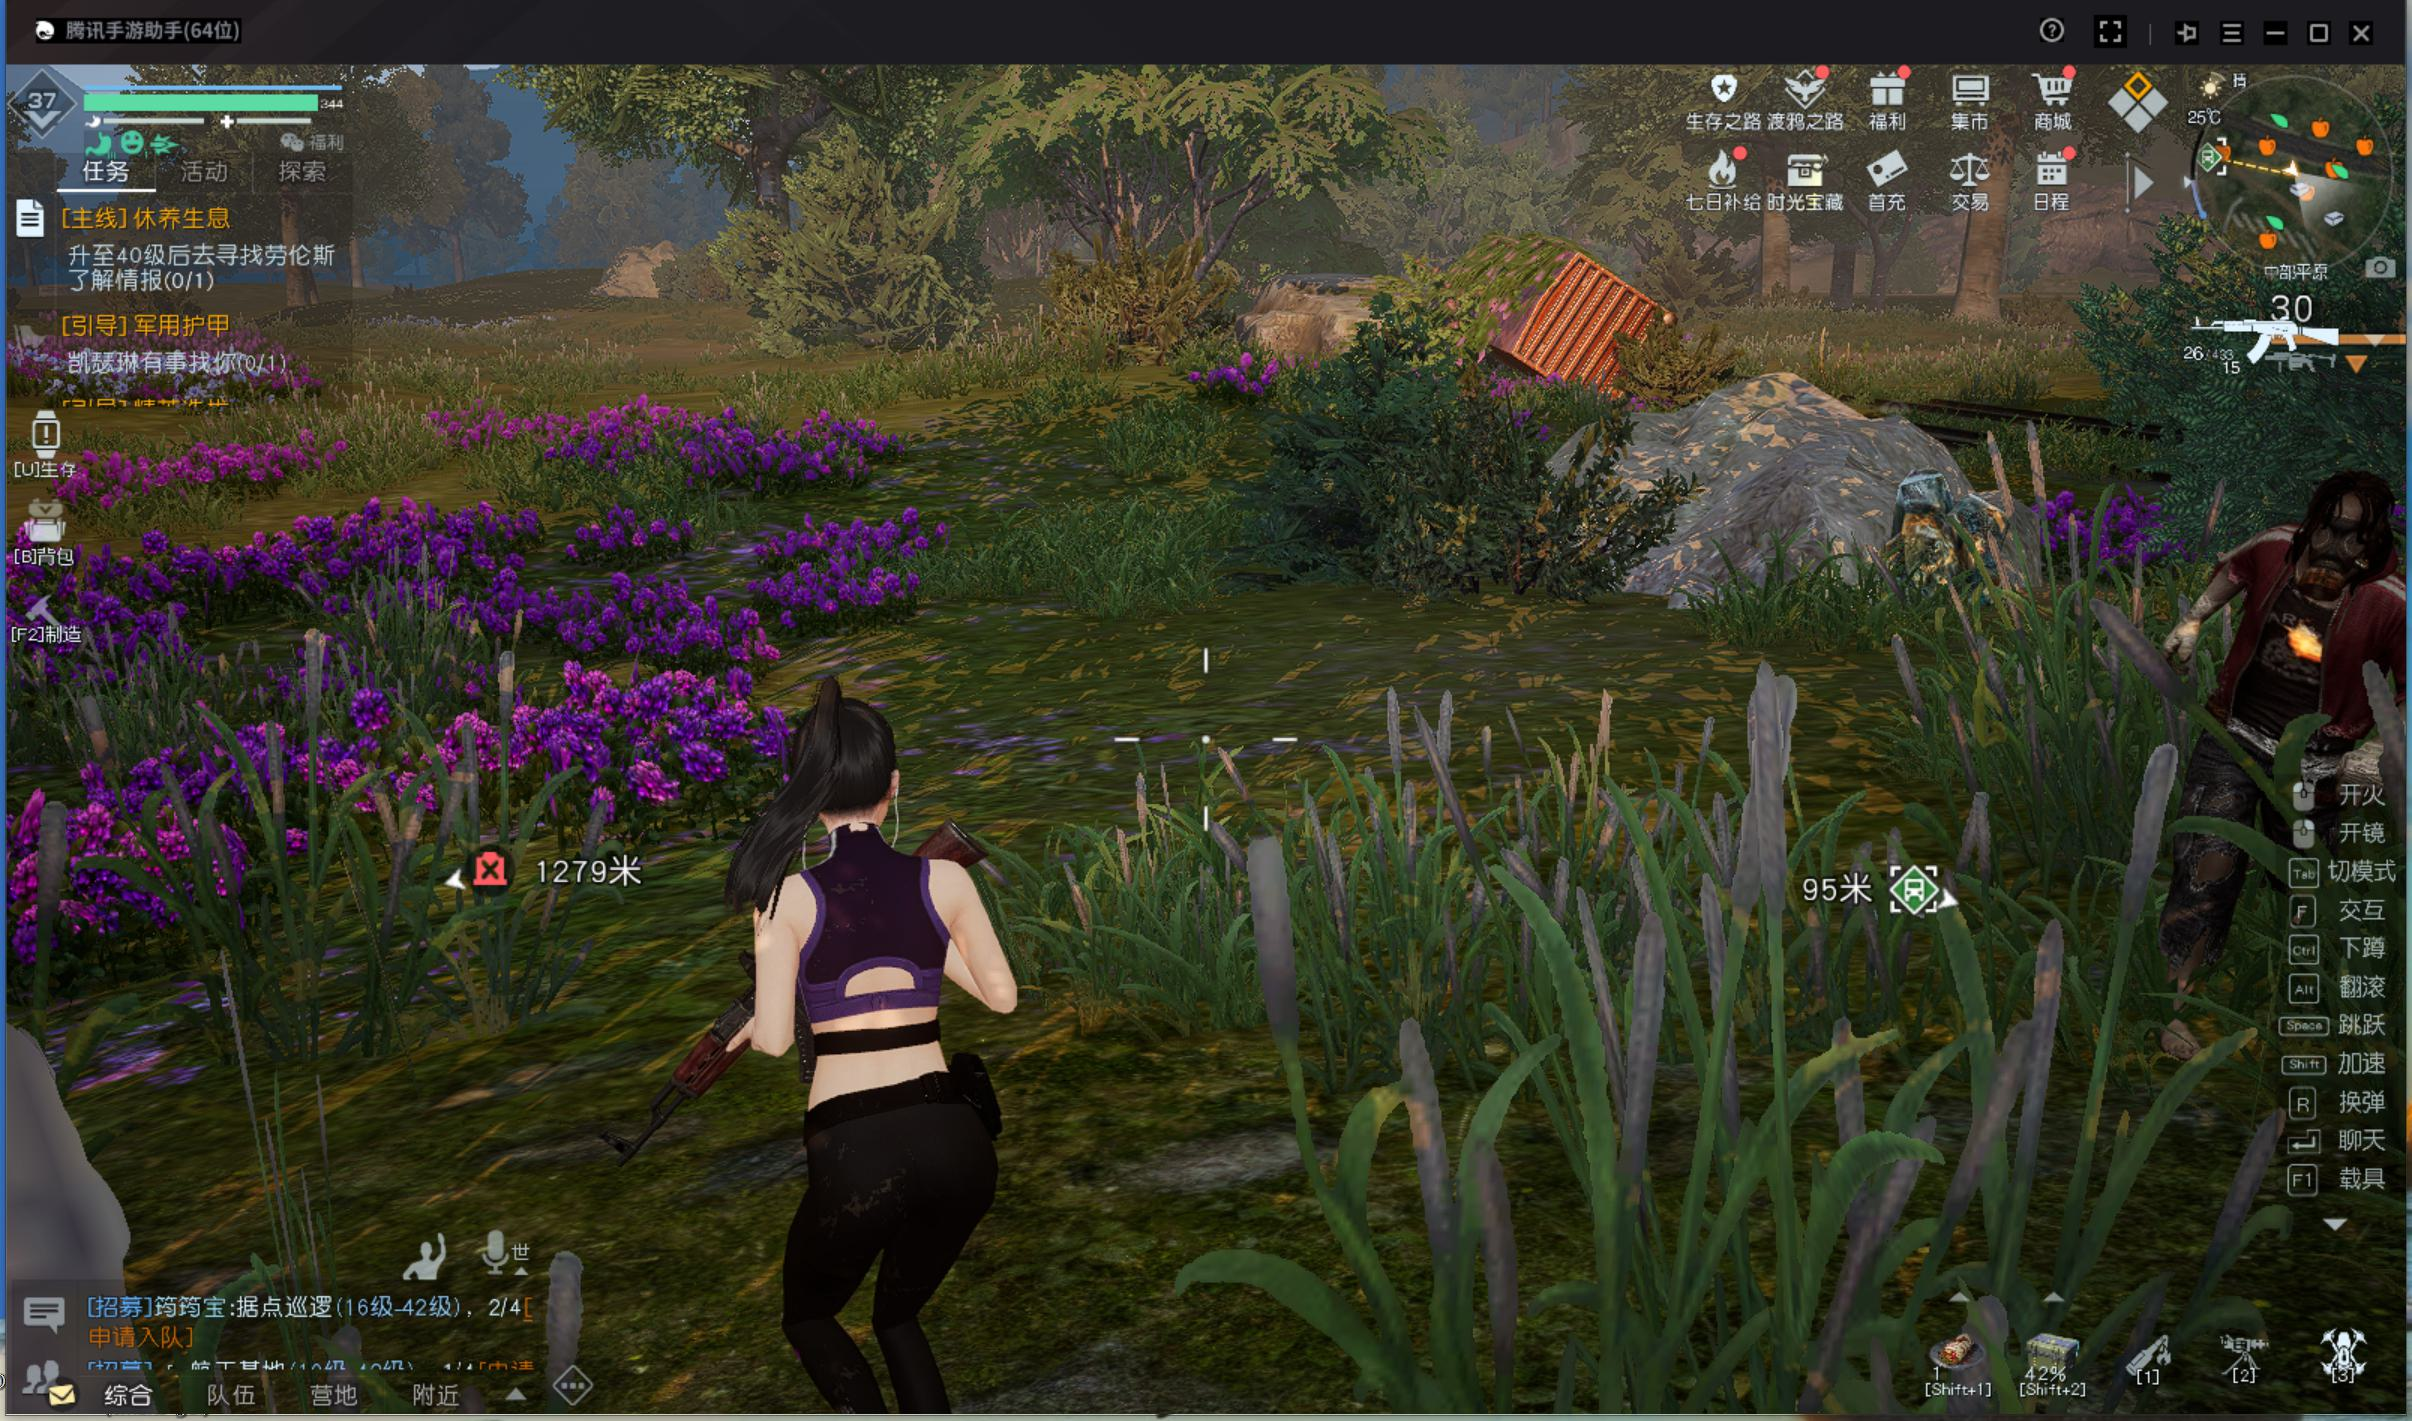stone: (1854, 443, 2043, 629)
tree: (1955, 217, 2016, 348), (1756, 227, 1793, 320)
